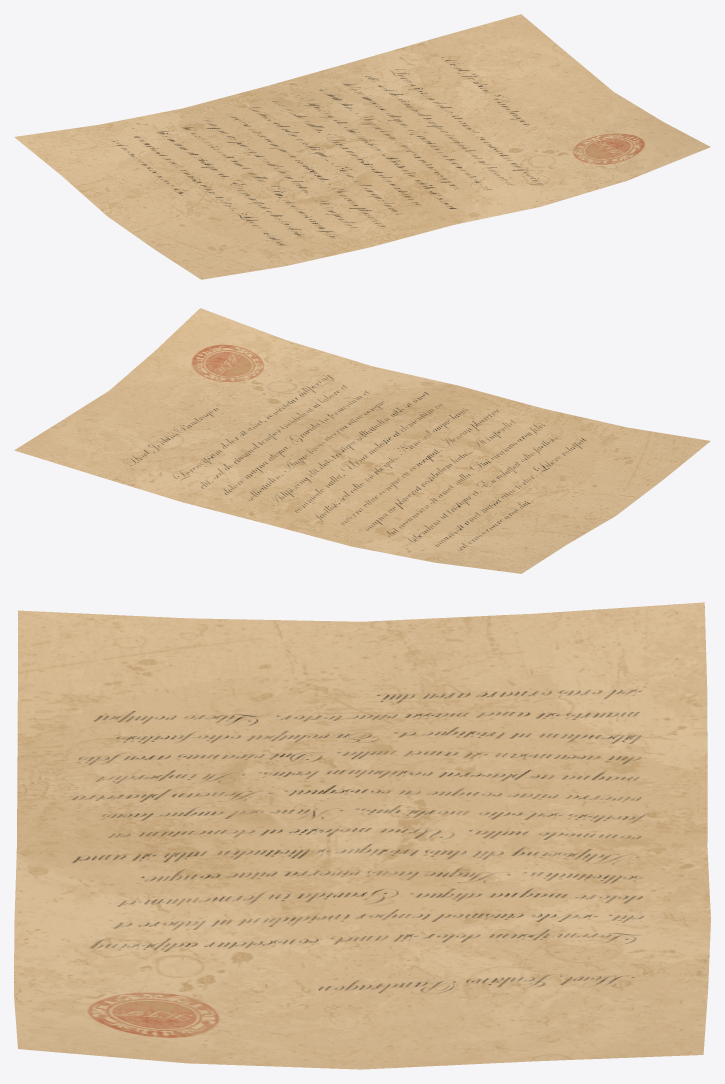
The model's file is SM_Letter_03.fbx.
3 renders of one model, top to bottom at view 1: azimuth 30°, elevation 25°; view 2: azimuth 150°, elevation 25°; view 3: azimuth 270°, elevation 25°, orthographic. The views are drawn at different scales.
Visible parts, largest first — view 1: SM_Letter_03_LOD0; view 2: SM_Letter_03_LOD0; view 3: SM_Letter_03_LOD0.
Boxes of the visible parts, <box> form: SM_Letter_03_LOD0: <box>14,14,710,279</box>; SM_Letter_03_LOD0: <box>14,308,710,573</box>; SM_Letter_03_LOD0: <box>14,602,710,1069</box>.
Size of the model in its own units: 48.57 by 31.52 by 1.57.
